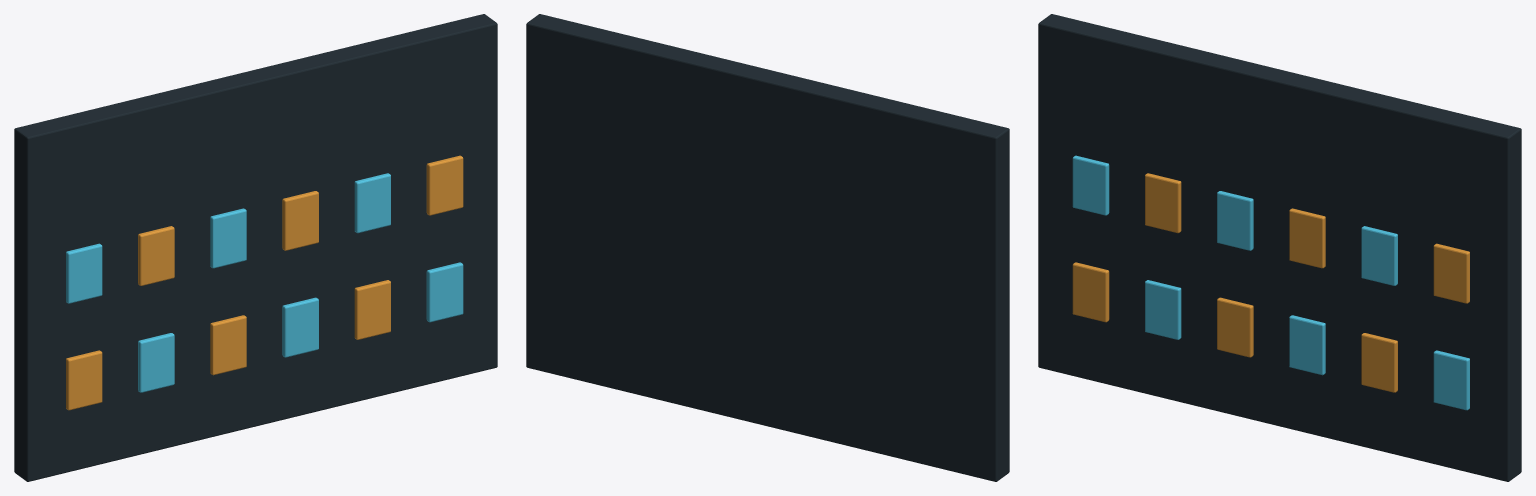
File: CC_S16_P2_Expansion_Publishing_LineupWall_LOD0.fbx
3 views of the same model, side by side, from view 1: azimuth 30°, elevation 25°; view 2: azimuth 150°, elevation 25°; view 3: azimuth 330°, elevation 25° (orthographic).
Visible parts, largest first — view 1: CC_S16_P2_Expansion_Publishing_LineupWall_LOD0_Panel, CC_S16_P2_Expansion_Publishing_LineupWall_LOD0; view 2: CC_S16_P2_Expansion_Publishing_LineupWall_LOD0_Panel; view 3: CC_S16_P2_Expansion_Publishing_LineupWall_LOD0_Panel, CC_S16_P2_Expansion_Publishing_LineupWall_LOD0.
Boxes of the visible parts, x1,y1,x2,y2 form: CC_S16_P2_Expansion_Publishing_LineupWall_LOD0_Panel: (14,14,497,481); CC_S16_P2_Expansion_Publishing_LineupWall_LOD0: (66,155,463,410); CC_S16_P2_Expansion_Publishing_LineupWall_LOD0_Panel: (526,14,1009,481); CC_S16_P2_Expansion_Publishing_LineupWall_LOD0_Panel: (1038,14,1521,481); CC_S16_P2_Expansion_Publishing_LineupWall_LOD0: (1072,155,1469,410).
Size of what is drawn, in the model's own units: 3 by 2.1 by 0.1875.
